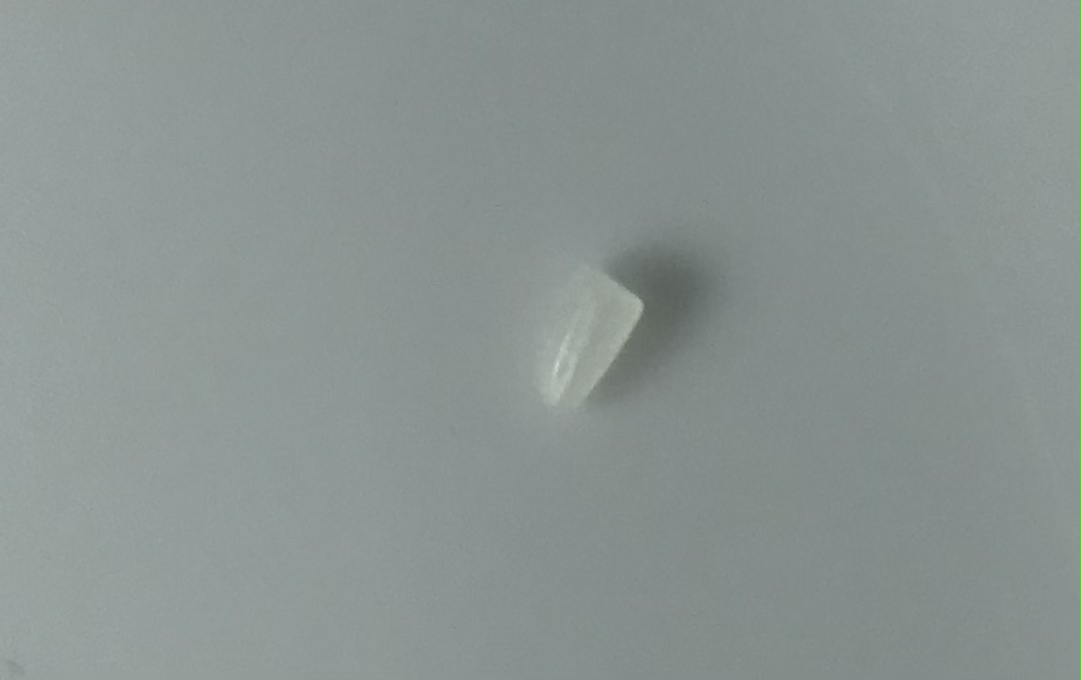Gao Tam: (524, 259, 639, 414)
